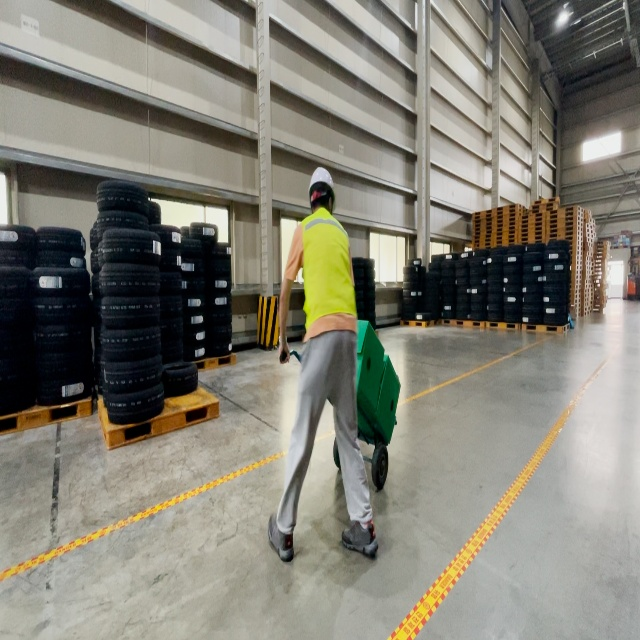Box: (357, 353, 401, 446)
Worker: (266, 165, 379, 564)
